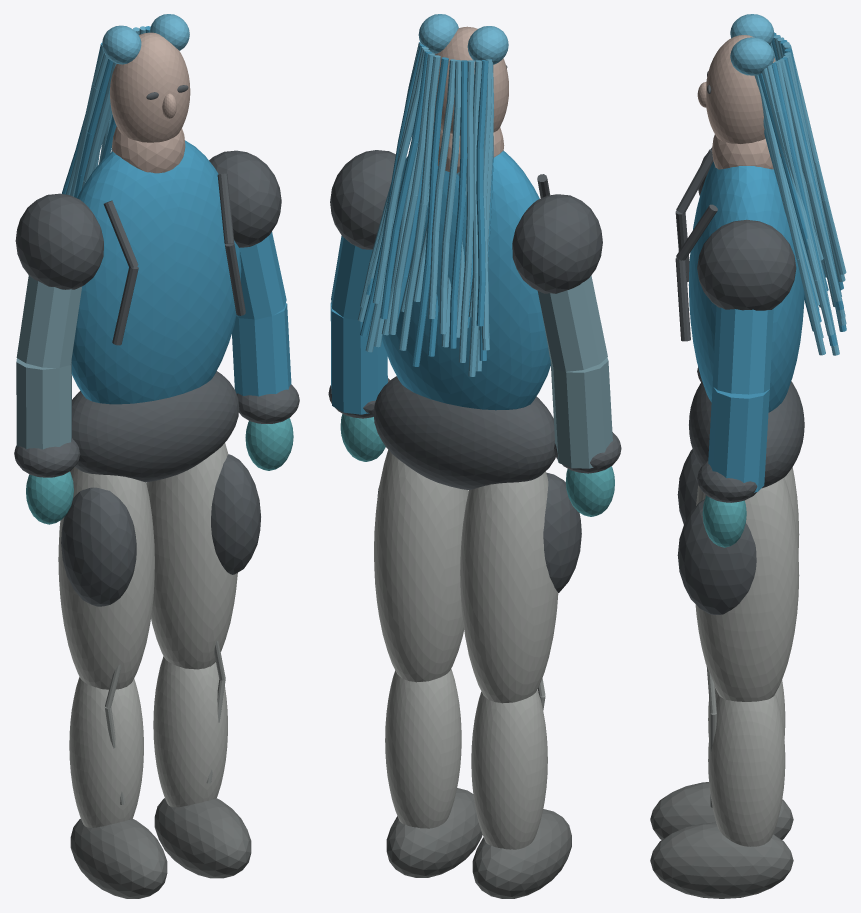
File: vondell_prototype.glb
The picture shows the model from 3 angles, left to right: view 1: azimuth 30°, elevation 25°; view 2: azimuth 150°, elevation 25°; view 3: azimuth 270°, elevation 25°; orthographic projection. The views are drawn at different scales.
Visible parts, largest first — view 1: jacket, trouser_leg_1, hips, trouser_leg_-1, lower_leg_1, lower_leg_-1, sleeve_-1, sleeve_1, cargo_pocket_-1, shoulder_-1, head, boot_1 (+16 smaller); view 2: jacket, trouser_leg_-1, trouser_leg_1, hips, lower_leg_1, lower_leg_-1, sleeve_-1, shoulder_-1, sleeve_1, boot_-1, boot_1, shoulder_1 (+26 smaller); view 3: trouser_leg_1, jacket, lower_leg_1, sleeve_1, boot_1, shoulder_1, cargo_pocket_1, head, hips, boot_-1, blue_lock_10, blue_lock_04 (+19 smaller).
Part boxes in pixels (left/top/right/bottom): jacket: left=71, top=140, right=241, bottom=404; trouser_leg_1: left=146, top=443, right=237, bottom=669; hips: left=72, top=371, right=239, bottom=482; trouser_leg_-1: left=58, top=467, right=154, bottom=689; lower_leg_1: left=153, top=656, right=227, bottom=807; lower_leg_-1: left=69, top=677, right=143, bottom=827; sleeve_-1: left=16, top=275, right=81, bottom=449; sleeve_1: left=232, top=232, right=291, bottom=396; cargo_pocket_-1: left=61, top=487, right=136, bottom=606; shoulder_-1: left=15, top=193, right=103, bottom=289; head: left=110, top=32, right=190, bottom=142; boot_1: left=154, top=798, right=251, bottom=878; jacket: left=382, top=150, right=550, bottom=410; trouser_leg_-1: left=460, top=471, right=558, bottom=703; trouser_leg_1: left=374, top=450, right=468, bottom=682; hips: left=373, top=376, right=555, bottom=489; lower_leg_1: left=385, top=669, right=461, bottom=828; lower_leg_-1: left=471, top=690, right=547, bottom=849; sleeve_-1: left=537, top=275, right=612, bottom=468; shoulder_-1: left=512, top=194, right=602, bottom=293; sleeve_1: left=330, top=235, right=387, bottom=414; boot_-1: left=472, top=809, right=571, bottom=898; boot_1: left=386, top=788, right=482, bottom=877; shoulder_1: left=330, top=150, right=395, bottom=249; trouser_leg_1: left=695, top=477, right=799, bottom=701; jacket: left=688, top=161, right=804, bottom=412; lower_leg_1: left=708, top=693, right=785, bottom=846; sleeve_1: left=708, top=306, right=773, bottom=492; boot_1: left=650, top=822, right=793, bottom=898; shoulder_1: left=697, top=219, right=796, bottom=310; cargo_pocket_1: left=677, top=499, right=756, bottom=614; head: left=706, top=35, right=775, bottom=143; hips: left=689, top=381, right=804, bottom=488; boot_-1: left=650, top=782, right=793, bottom=839; blue_lock_10: left=754, top=75, right=825, bottom=355; blue_lock_04: left=777, top=59, right=841, bottom=301.
Bounding box in the file's own units: 0.58 × 1.7 × 0.3563.
